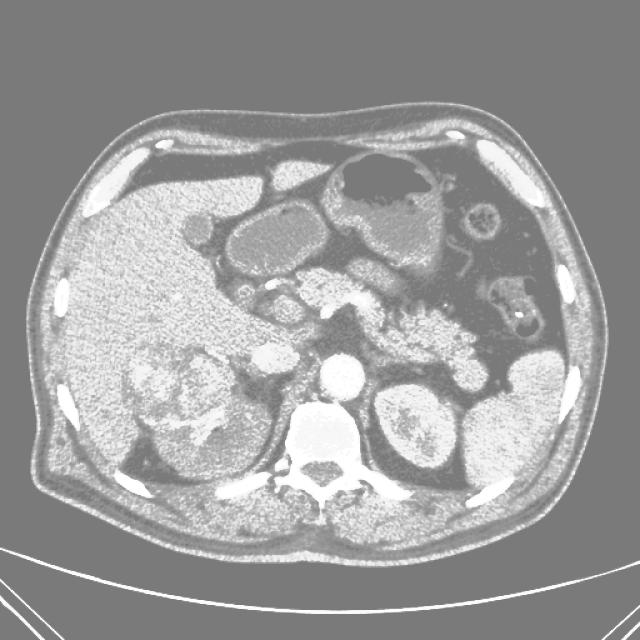TUMOR: (113, 172, 545, 497)
